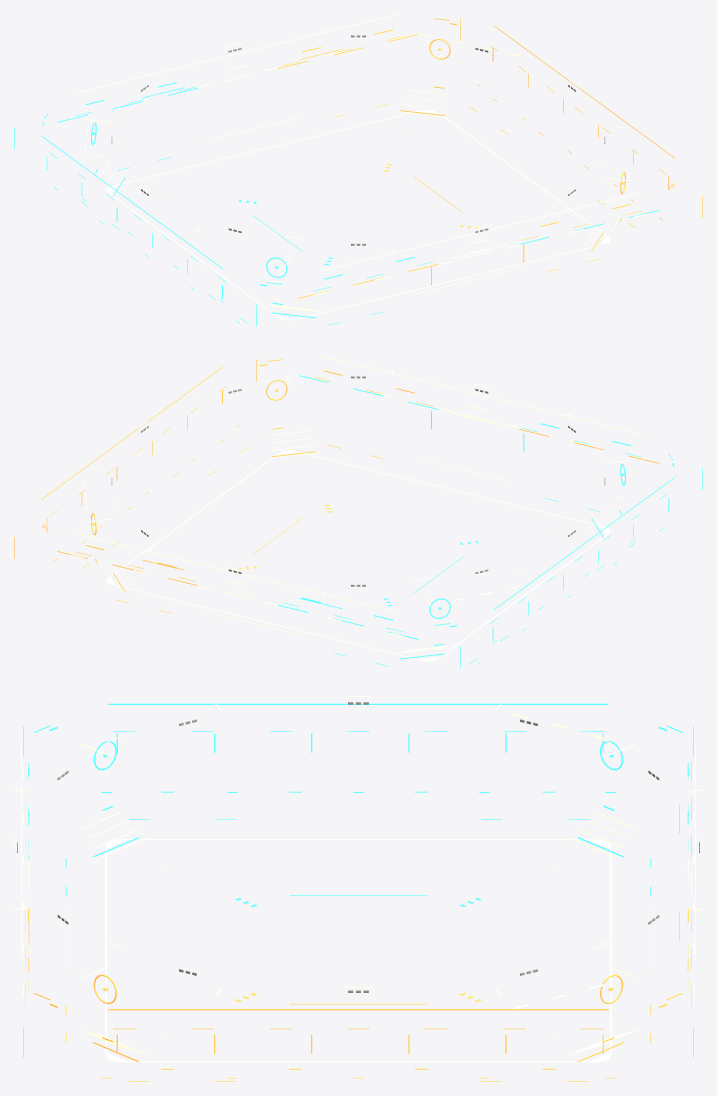
Rendered from SM_BobStadium_Lights.glb.
The picture shows the model from 3 angles, top to bottom: view 1: azimuth 30°, elevation 25°; view 2: azimuth 150°, elevation 25°; view 3: azimuth 270°, elevation 25°; orthographic projection. The views are drawn at different scales.
Visible parts, largest first — view 1: SM_BobStadium_Lights; view 2: SM_BobStadium_Lights; view 3: SM_BobStadium_Lights.
Boxes of the visible parts, <box> form: SM_BobStadium_Lights: <box>14,14,702,326</box>; SM_BobStadium_Lights: <box>14,355,702,667</box>; SM_BobStadium_Lights: <box>14,696,702,1081</box>.
Size of the model in its own units: 40.19 by 6.71 by 38.29.
